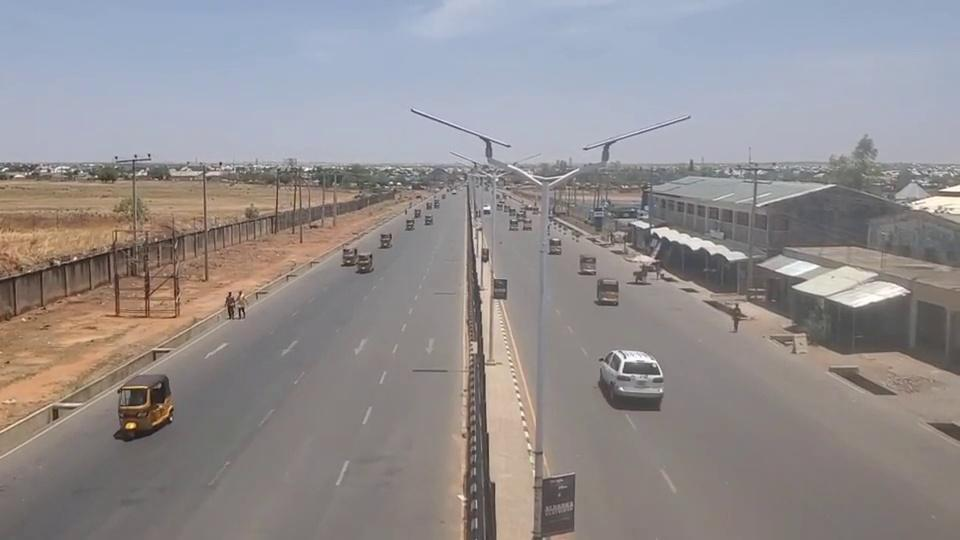car: (599, 347, 665, 404)
keke: (116, 373, 174, 438), (596, 278, 619, 305), (356, 251, 374, 272), (579, 254, 597, 274), (341, 246, 357, 265), (548, 237, 562, 254), (380, 233, 393, 248), (405, 218, 415, 231), (522, 218, 532, 230), (424, 214, 433, 225)
